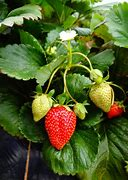Fresa: (45, 102, 78, 149), (108, 100, 126, 118)
